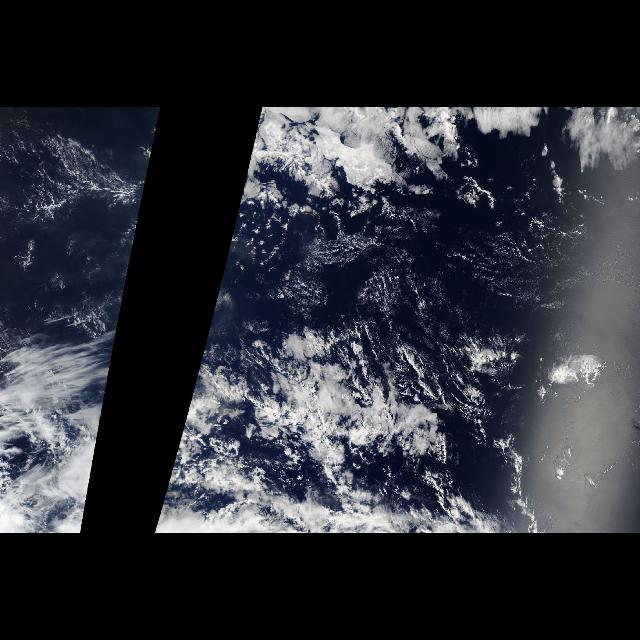Sugar: (278, 204, 640, 336)
